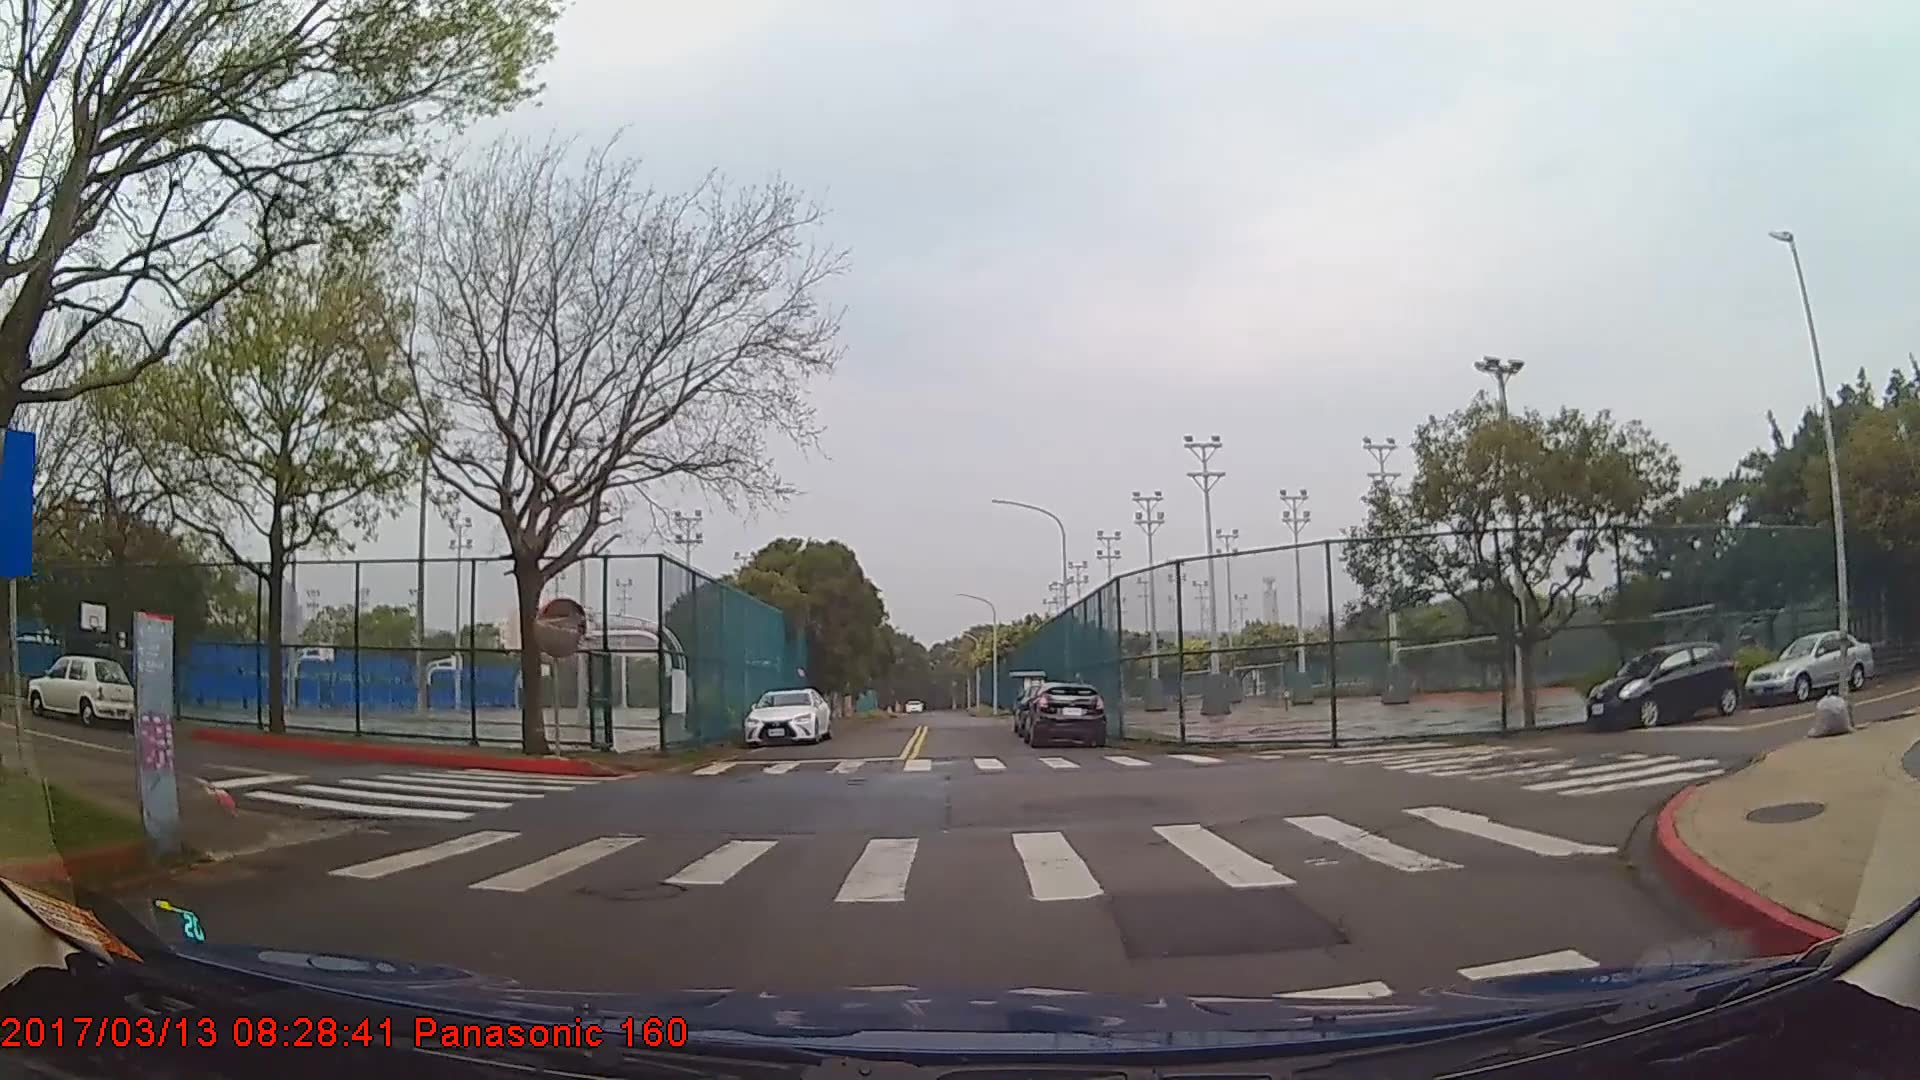vehicle: (1586, 640, 1738, 729), (1745, 632, 1876, 704), (30, 654, 133, 725), (1023, 683, 1105, 750), (745, 688, 832, 749)
